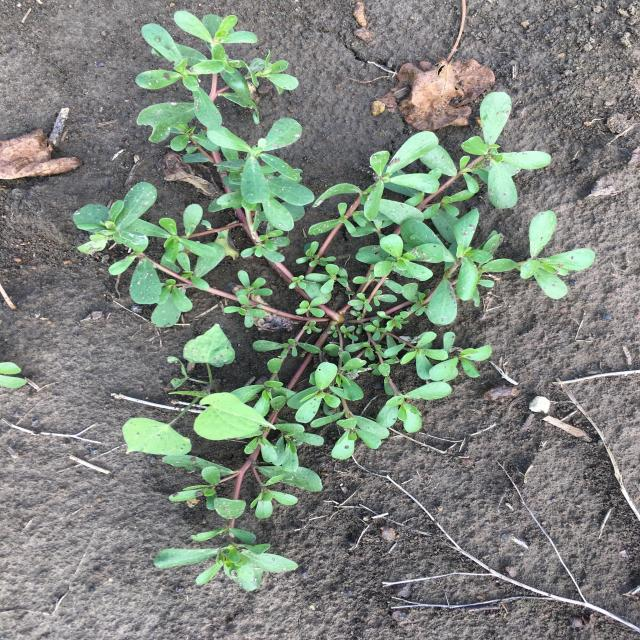Purslane: (72, 10, 596, 591)
